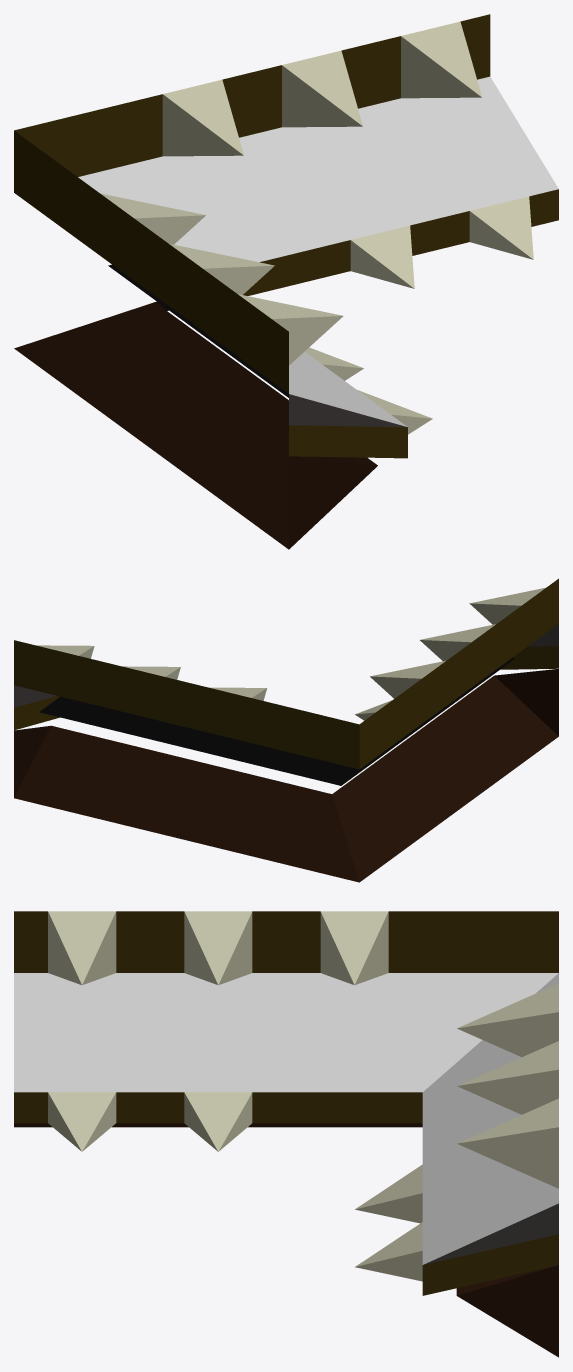
Rendered from model_loc_1667_c.obj.
The picture shows the model from 3 angles, top to bottom: view 1: azimuth 30°, elevation 25°; view 2: azimuth 150°, elevation 25°; view 3: azimuth 270°, elevation 25°; orthographic projection. The views are drawn at different scales.
Parts seen in each view (by area): view 1: 947; view 2: 947; view 3: 947.
Boxes of the visible parts, left/top/right/bottom form: 947: left=14, top=14, right=558, bottom=549; 947: left=14, top=578, right=558, bottom=882; 947: left=14, top=911, right=558, bottom=1357.
Size of the model in its own units: 128 by 56 by 128.
